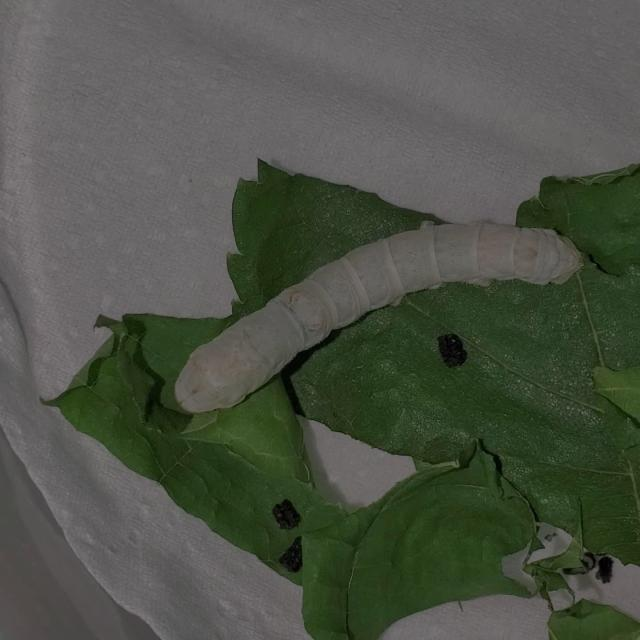Healthy: (168, 192, 606, 414)
